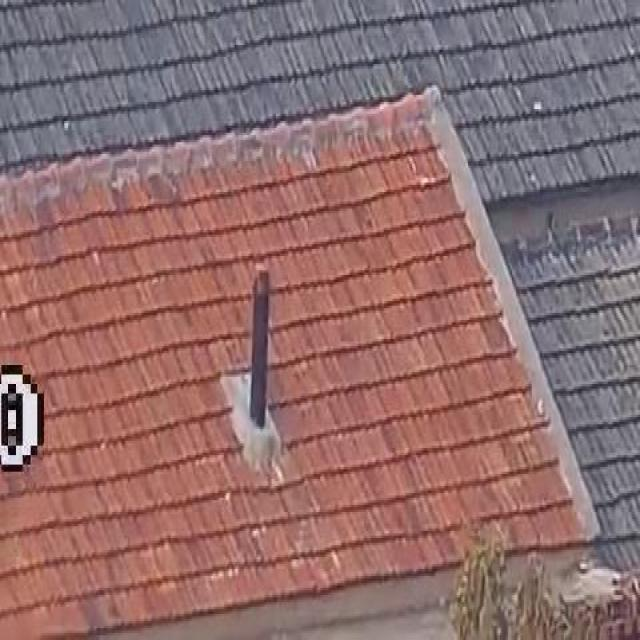other: (294, 176, 532, 518)
